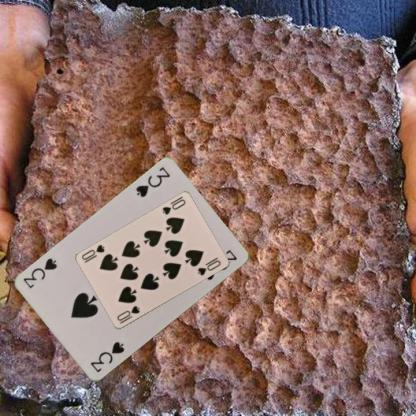10s: (114, 304, 141, 326), (160, 197, 186, 216)
3s: (87, 340, 126, 374), (133, 165, 171, 199)
